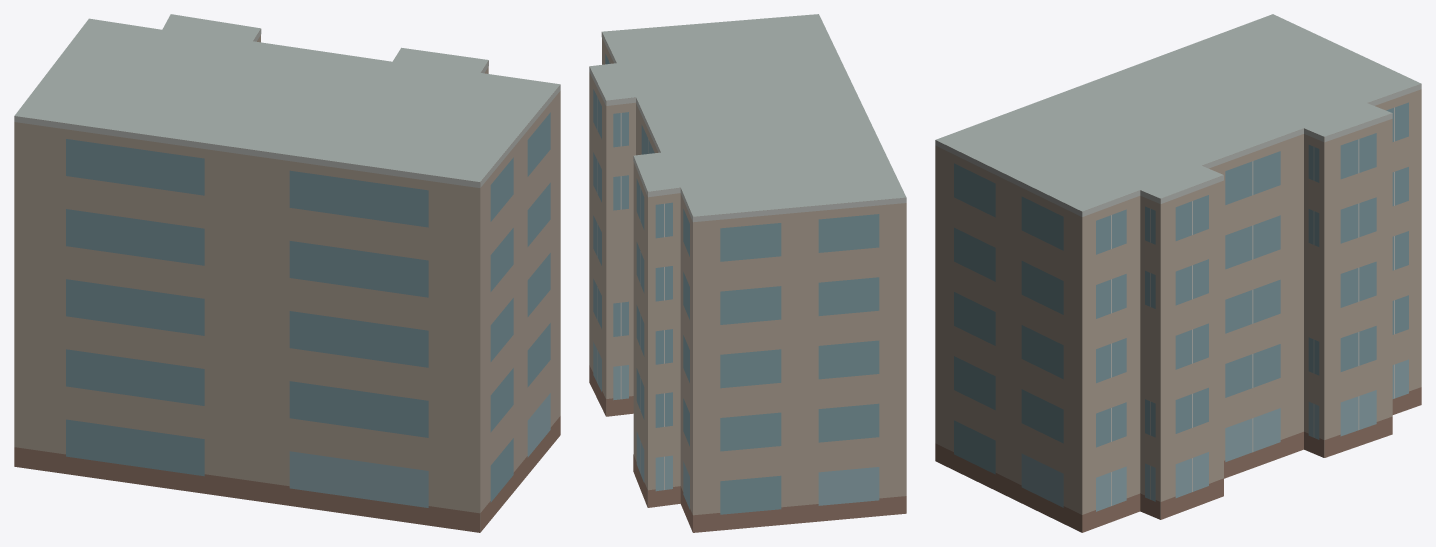
File: survey-upis-33012431.glb
The picture shows the model from 3 angles, left to right: view 1: azimuth 30°, elevation 25°; view 2: azimuth 150°, elevation 25°; view 3: azimuth 270°, elevation 25°; orthographic projection. The views are drawn at different scales.
Visible parts, largest first — view 1: survey-upis-33012431.tmp; view 2: survey-upis-33012431.tmp; view 3: survey-upis-33012431.tmp.
Boxes of the visible parts, bbox=[...] form: survey-upis-33012431.tmp: bbox=[14, 14, 560, 532]; survey-upis-33012431.tmp: bbox=[589, 14, 906, 532]; survey-upis-33012431.tmp: bbox=[935, 14, 1421, 532].
Bounding box in the file's own units: 18.68 × 14.15 × 19.42.
